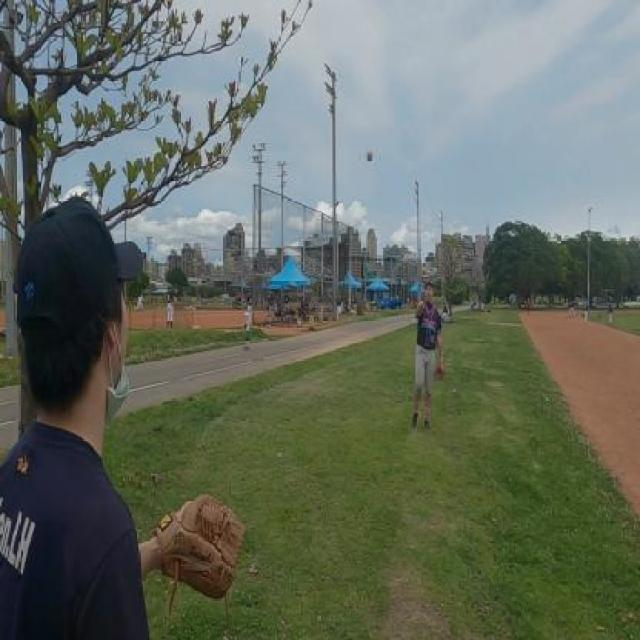baseball: (367, 149, 373, 162)
